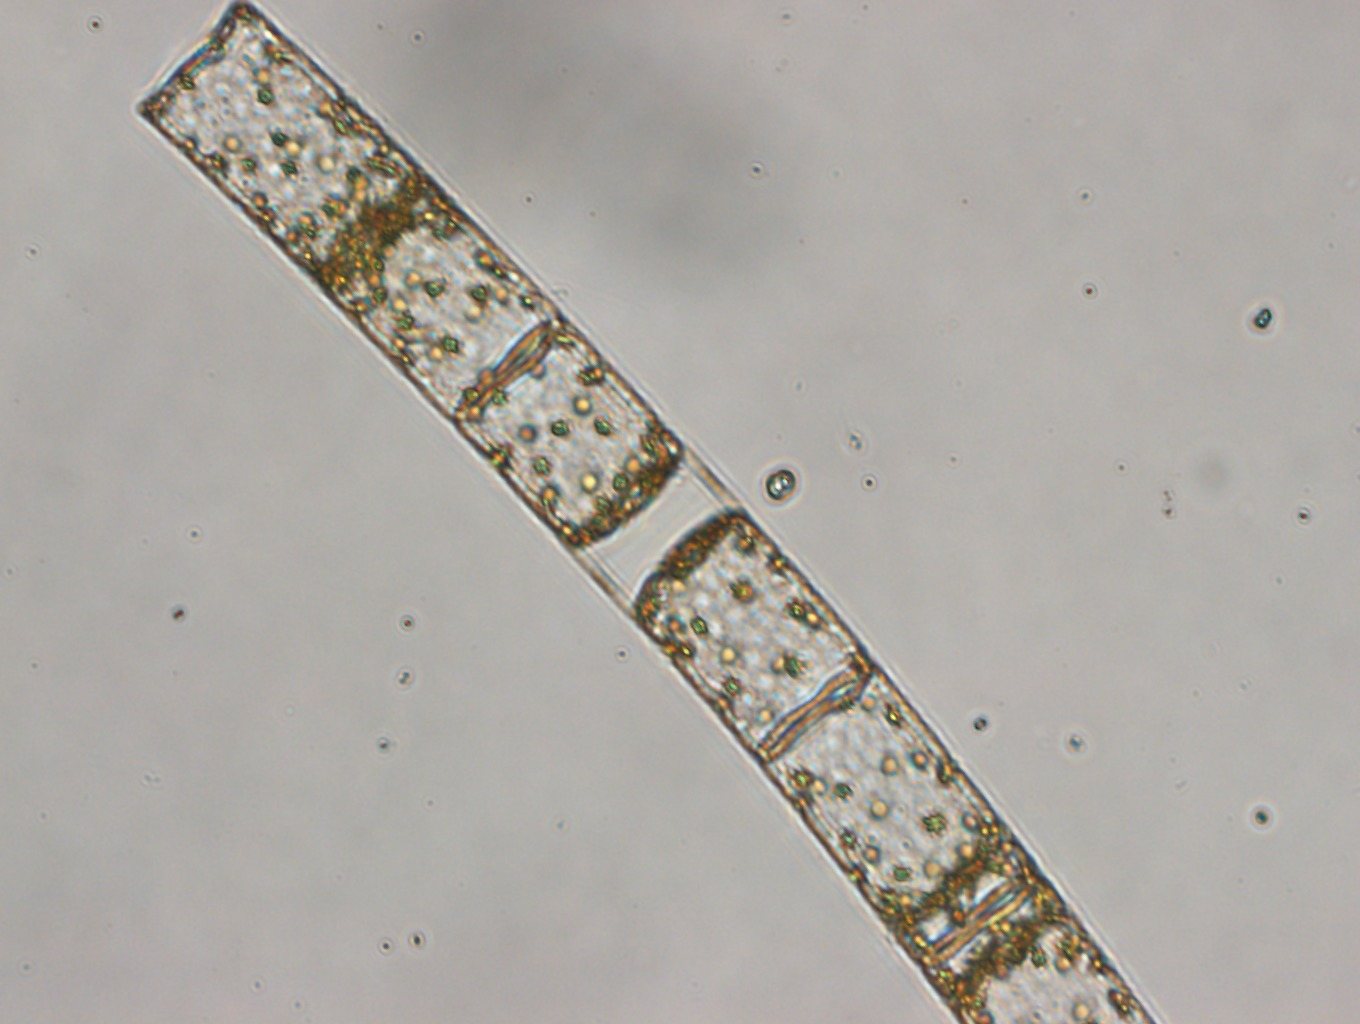guinardia flaccida: (134, 1, 1153, 1024)
